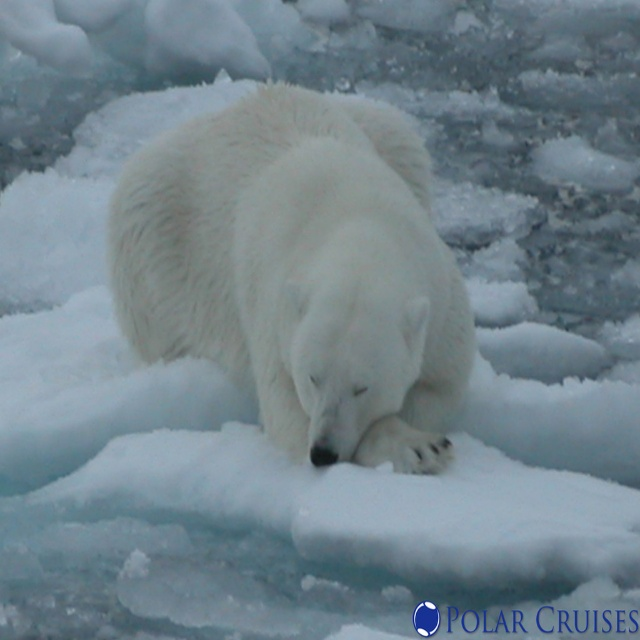Polar bear: (108, 78, 475, 475)
